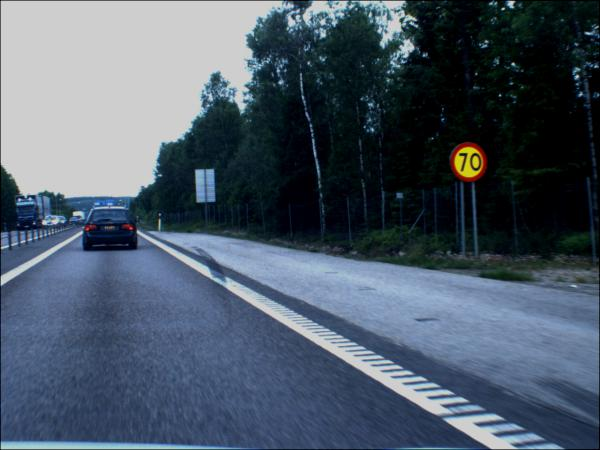70_SIGN: (451, 142, 490, 184)
